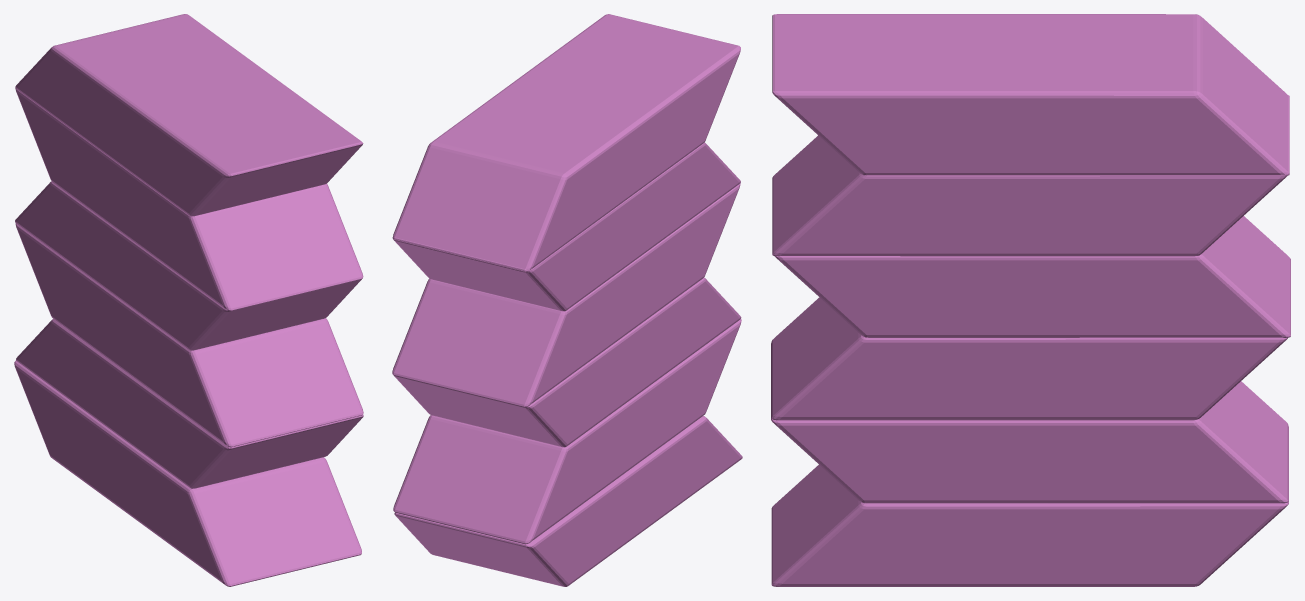
File: Eraser_Single.fbx
3 views of the same model, side by side, from view 1: azimuth 30°, elevation 25°; view 2: azimuth 150°, elevation 25°; view 3: azimuth 270°, elevation 25° (orthographic). The views are drawn at different scales.
Visible parts, largest first — view 1: Eraser.005, Eraser, Eraser.002, Eraser.004, Eraser.001, Eraser.003; view 2: Eraser.005, Eraser.001, Eraser.003, Eraser, Eraser.004, Eraser.002; view 3: Eraser.005, Eraser, Eraser.001, Eraser.002, Eraser.003, Eraser.004.
Part boxes in pixels (x1=…): Eraser.005: x1=15, y1=14, x2=363, y2=216; Eraser: x1=14, y1=360, x2=361, y2=586; Eraser.002: x1=15, y1=223, x2=363, y2=447; Eraser.004: x1=15, y1=88, x2=363, y2=311; Eraser.001: x1=16, y1=319, x2=363, y2=488; Eraser.003: x1=15, y1=181, x2=361, y2=350; Eraser.005: x1=392, y1=14, x2=740, y2=272; Eraser.001: x1=393, y1=319, x2=741, y2=544; Eraser.003: x1=392, y1=183, x2=740, y2=407; Eraser: x1=394, y1=416, x2=742, y2=586; Eraser.004: x1=393, y1=142, x2=740, y2=311; Eraser.002: x1=394, y1=277, x2=741, y2=447; Eraser.005: x1=772, y1=14, x2=1289, y2=175; Eraser: x1=771, y1=426, x2=1288, y2=586; Eraser.001: x1=771, y1=342, x2=1288, y2=503; Eraser.002: x1=771, y1=297, x2=1287, y2=420; Eraser.003: x1=775, y1=216, x2=1290, y2=337; Eraser.004: x1=772, y1=95, x2=1289, y2=256.
Bounding box in the file's own units: 294 × 828 × 786.
